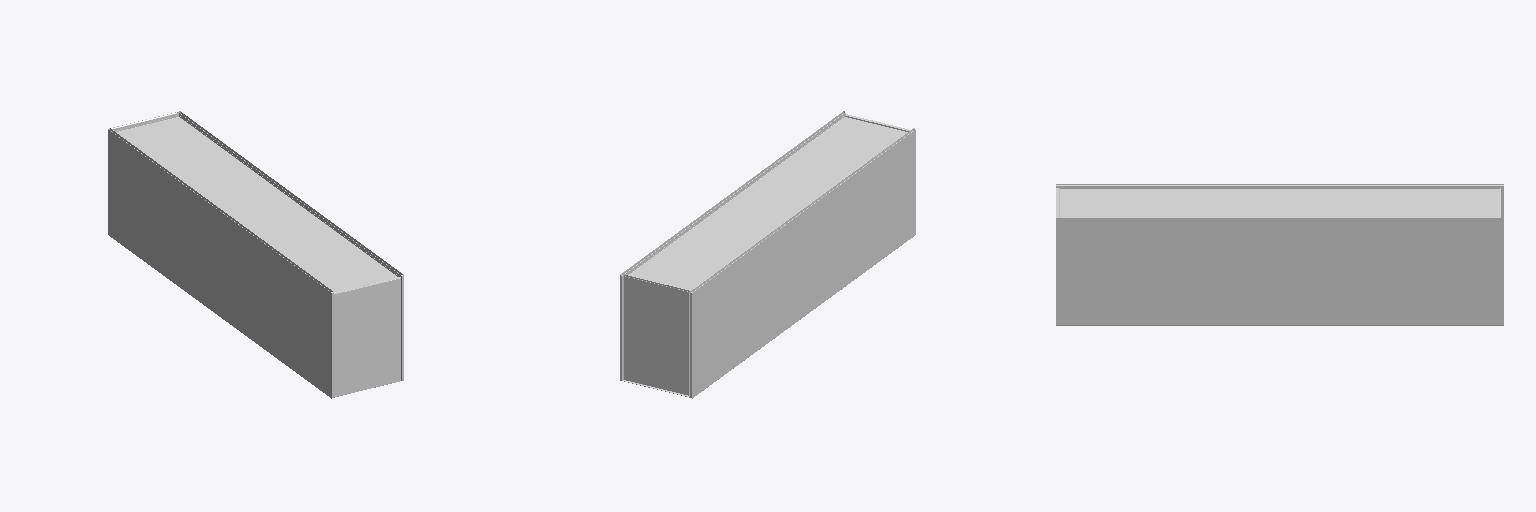
The picture shows the model from 3 angles: view 1: azimuth 30°, elevation 25°; view 2: azimuth 150°, elevation 25°; view 3: azimuth 270°, elevation 25°; orthographic projection.
Visible parts, largest first — view 1: SM_Kitchen_02_Base; view 2: SM_Kitchen_02_Base; view 3: SM_Kitchen_02_Base.
Boxes of the visible parts, x1,y1,x2,y2 form: SM_Kitchen_02_Base: [108, 111, 403, 398]; SM_Kitchen_02_Base: [620, 111, 915, 398]; SM_Kitchen_02_Base: [1056, 184, 1503, 325].
Size of the model in its own units: 0.4 by 0.5667 by 2.13.
Materials: 3 (2 with a texture image).